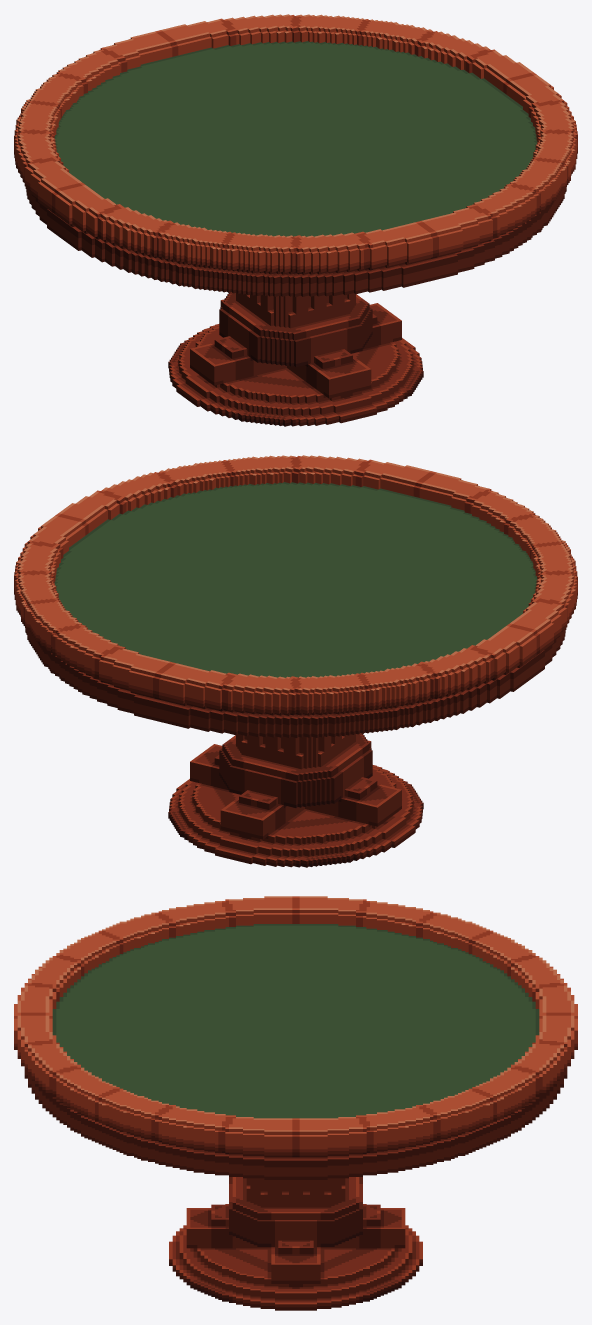
Rendered from poker_table.glb.
3 views of the same model, one above another, from view 1: azimuth 30°, elevation 25°; view 2: azimuth 150°, elevation 25°; view 3: azimuth 270°, elevation 25° (orthographic).
Parts seen in each view (by area): view 1: PokerTable; view 2: PokerTable; view 3: PokerTable.
Part boxes in pixels (<box>): PokerTable: <box>14,14,577,426</box>; PokerTable: <box>14,455,577,867</box>; PokerTable: <box>14,896,577,1310</box>.
Size of the model in its own units: 1.6 by 0.76 by 1.6.
